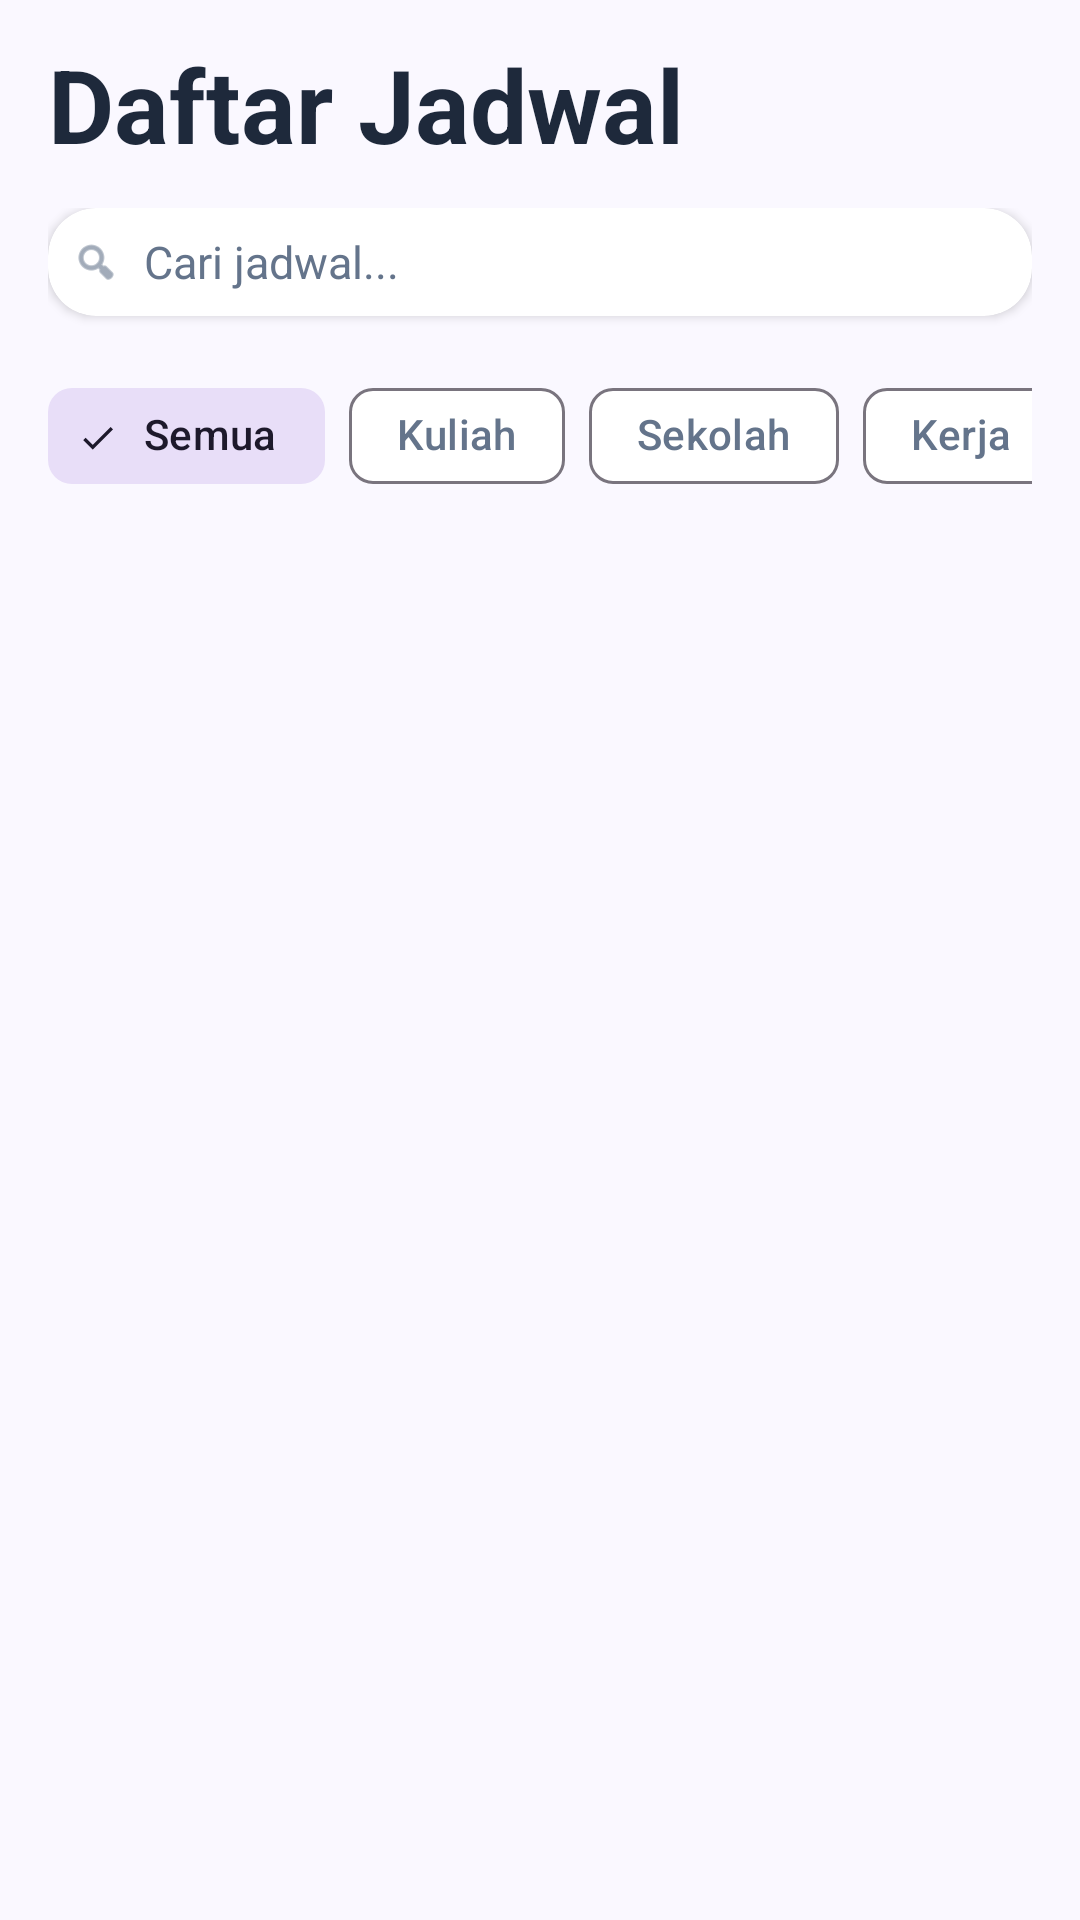

Icon click points for this 1080×1920 phone screenshot, format (x=x, y=y):
search: (x=96, y=262)
